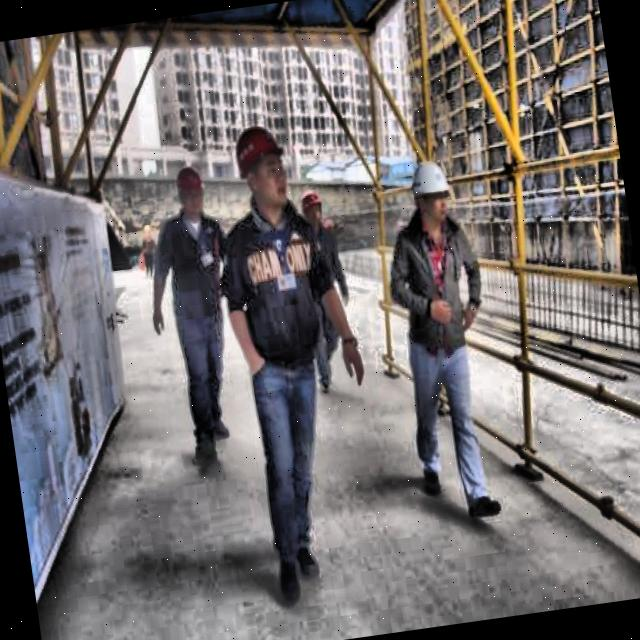helmet: (226, 110, 297, 220), (405, 154, 459, 230), (170, 158, 210, 222), (297, 180, 325, 231)
